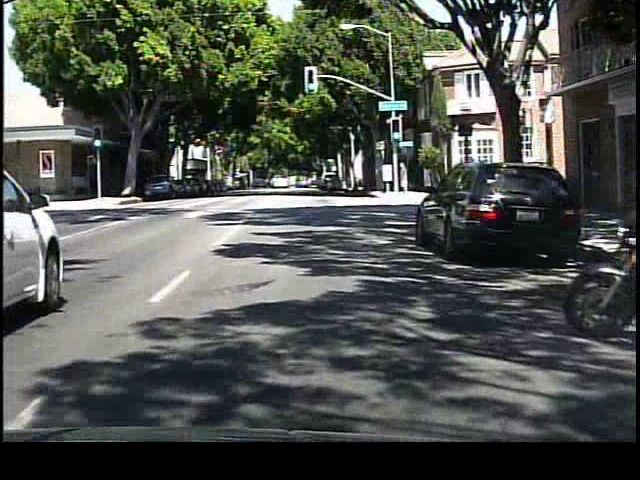person: (395, 157, 413, 195)
